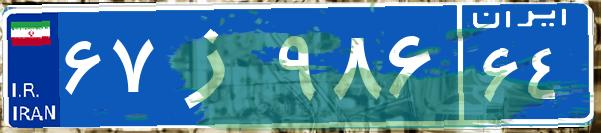4: (525, 38, 570, 115)
6: (385, 28, 445, 110), (57, 26, 110, 107), (475, 38, 525, 113)
7: (110, 28, 158, 105)
8: (330, 28, 385, 110)
9: (273, 28, 330, 110)
ز: (158, 15, 273, 115)
